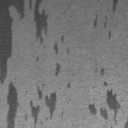red iron: (0, 0, 56, 128), (88, 82, 121, 124), (94, 14, 112, 39), (54, 35, 70, 56), (112, 0, 120, 12), (54, 62, 60, 76), (100, 67, 104, 76), (67, 82, 70, 88), (36, 56, 39, 61), (126, 121, 128, 128)
